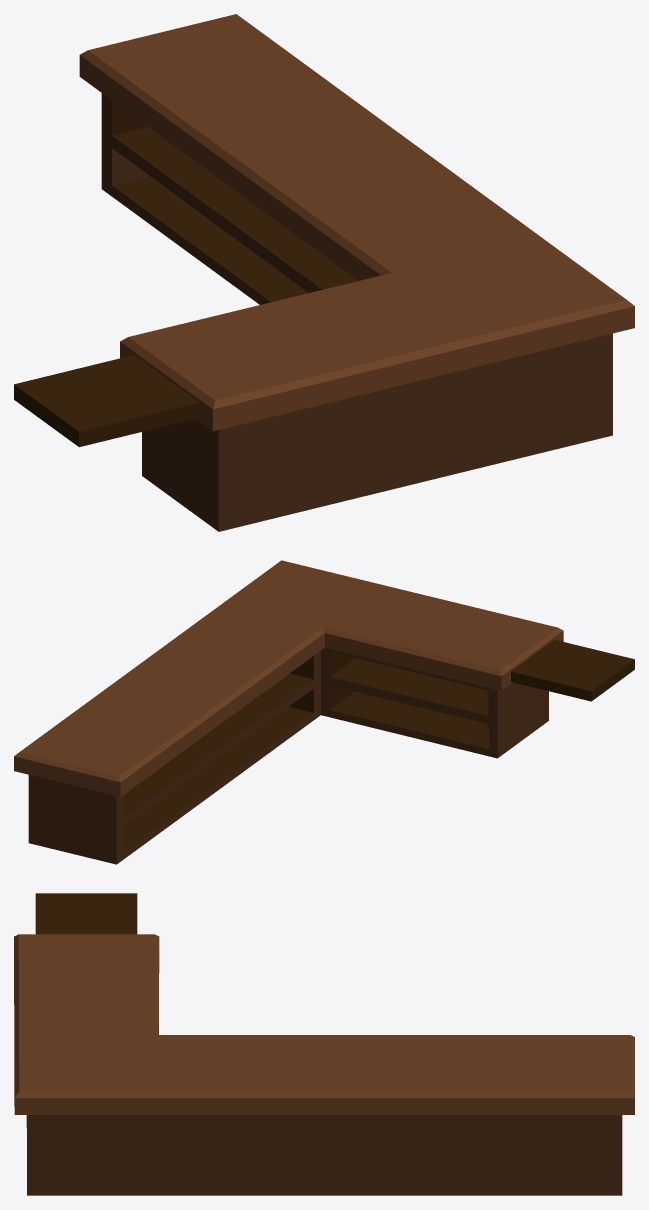
Rendered from Bar.fbx.
3 renders of one model, top to bottom at view 1: azimuth 30°, elevation 25°; view 2: azimuth 150°, elevation 25°; view 3: azimuth 270°, elevation 25°, orthographic. The views are drawn at different scales.
Visible parts, largest first — view 1: Bar; view 2: Bar; view 3: Bar.
Part boxes in pixels (<box>): Bar: <box>14,14,634,531</box>; Bar: <box>14,560,634,864</box>; Bar: <box>14,893,634,1195</box>.
Bounding box in the file's own units: 410 × 99.25 × 520.
